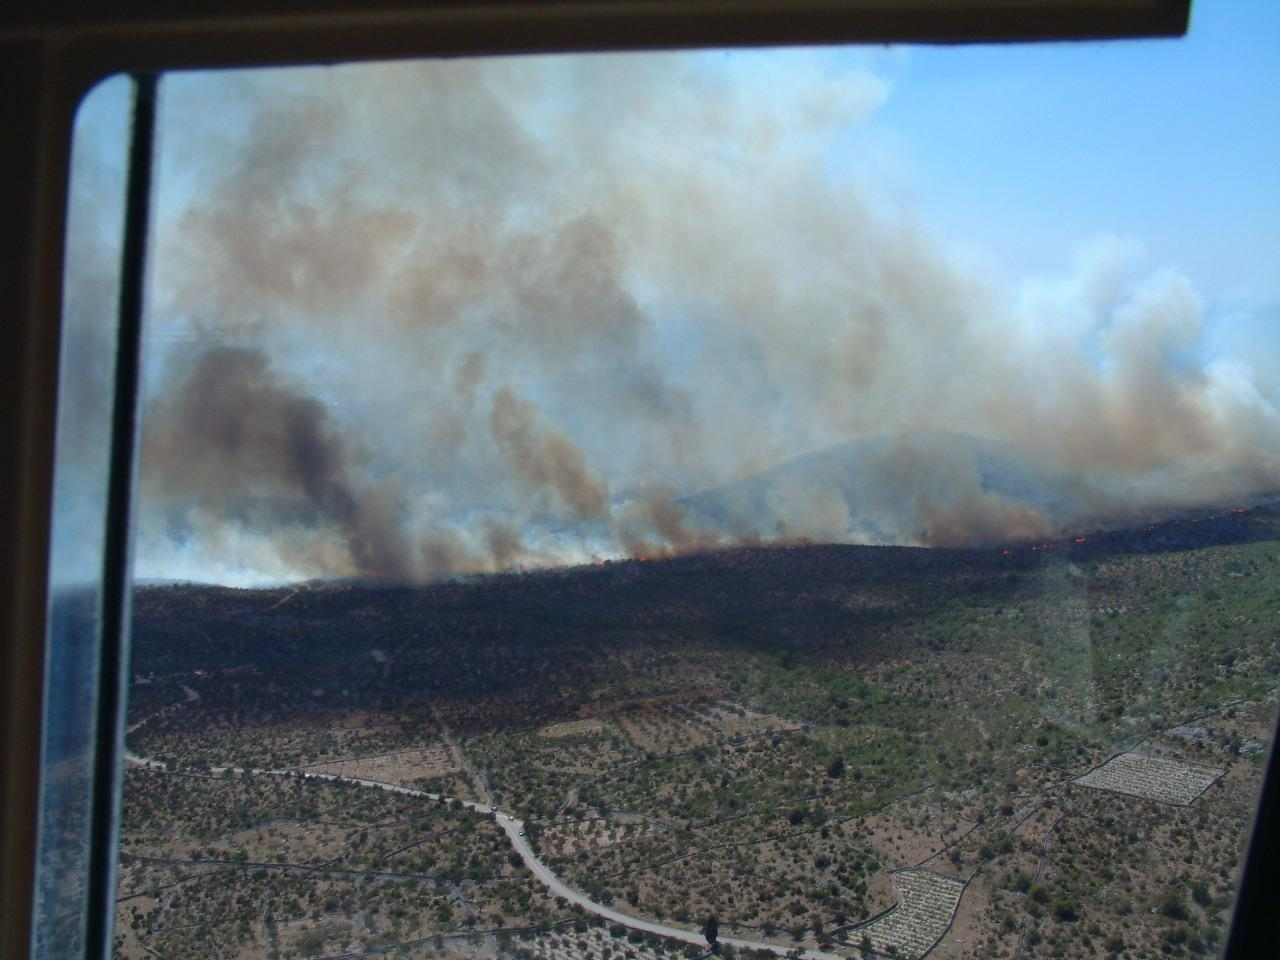Smoke: (134, 31, 1279, 584)
